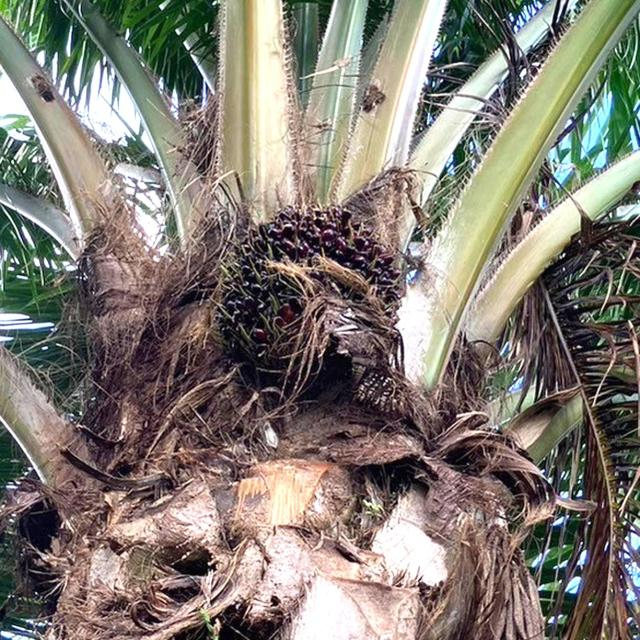ripe: (226, 203, 409, 402)
